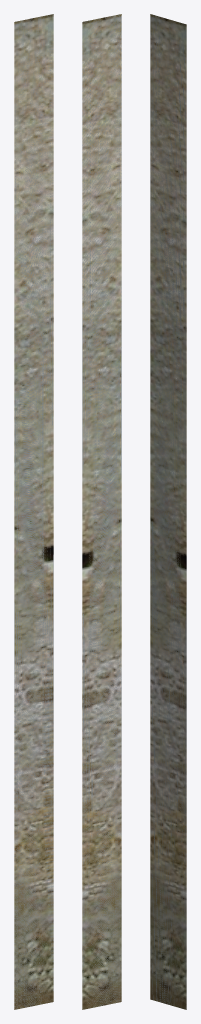
File: 西庸城堡61.dae
3 views of the same model, side by side, from view 1: azimuth 30°, elevation 25°; view 2: azimuth 210°, elevation 25°; view 3: azimuth 330°, elevation 25° (orthographic).
Parts seen in each view (by area): view 1: SketchUp; view 2: SketchUp; view 3: SketchUp.
Part boxes in pixels (x1,y1,x2,y2): SketchUp: [14, 14, 53, 1009]; SketchUp: [82, 14, 121, 1009]; SketchUp: [150, 14, 186, 1009].
Size of the model in its own units: 32.17 by 2.51 by 803.
2 materials, 1 textured.
